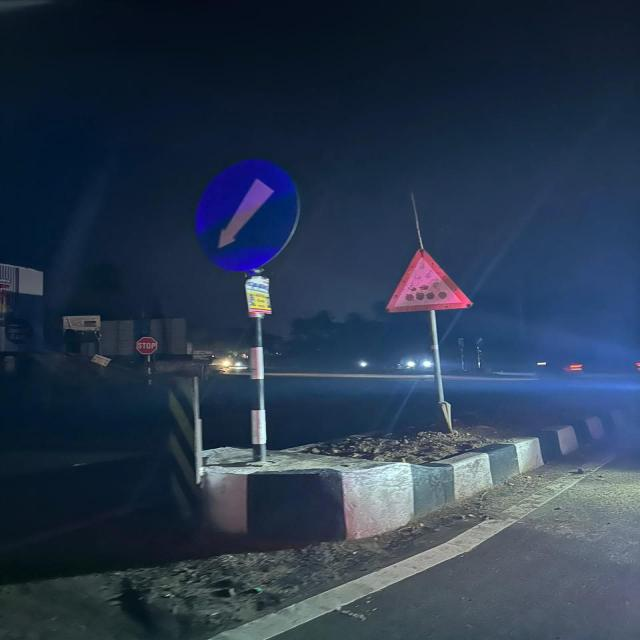compulsory_keep_left: (196, 160, 300, 270)
